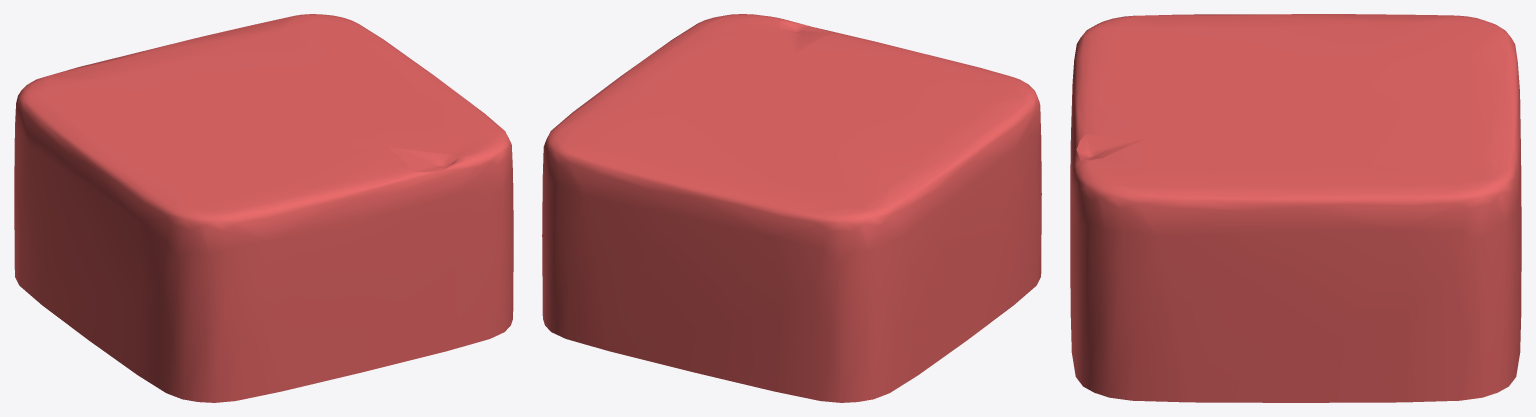
Rendered from lavaDing_07.fbx.
The picture shows the model from 3 angles, left to right: view 1: azimuth 30°, elevation 25°; view 2: azimuth 150°, elevation 25°; view 3: azimuth 270°, elevation 25°; orthographic projection. The views are drawn at different scales.
Visible parts, largest first — view 1: Cube.018; view 2: Cube.018; view 3: Cube.018.
Boxes of the visible parts, bbox=[...] form: Cube.018: bbox=[14, 14, 513, 402]; Cube.018: bbox=[542, 14, 1041, 402]; Cube.018: bbox=[1070, 14, 1521, 402].
Bounding box in the file's own units: 200 × 99.99 × 200.
